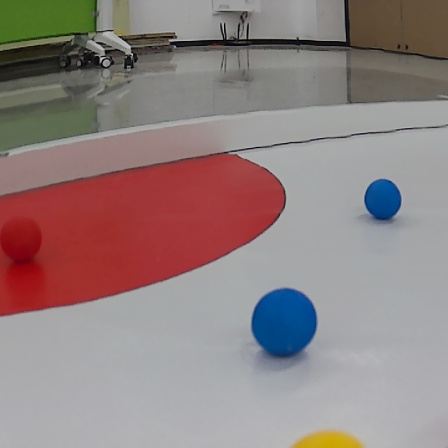blue: (248, 284, 319, 359), (363, 178, 402, 220)
red: (3, 216, 45, 264)
red_base: (3, 148, 285, 321)
